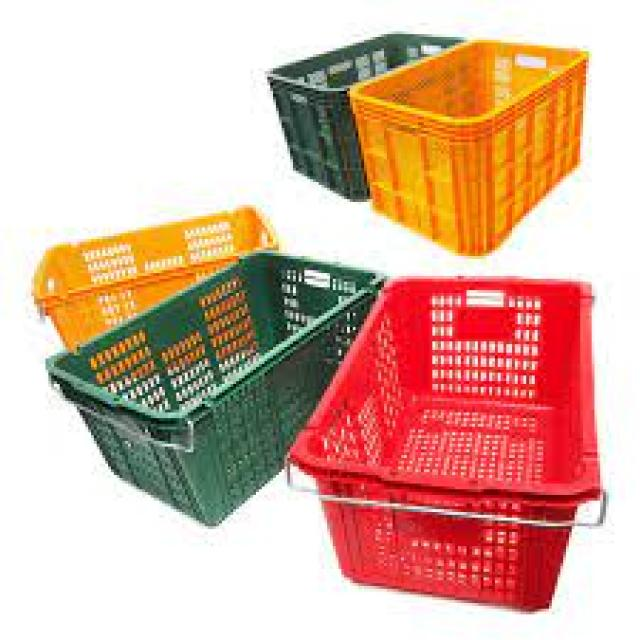basket: (46, 198, 449, 560), (293, 279, 603, 610), (337, 29, 593, 265), (15, 155, 280, 357)
